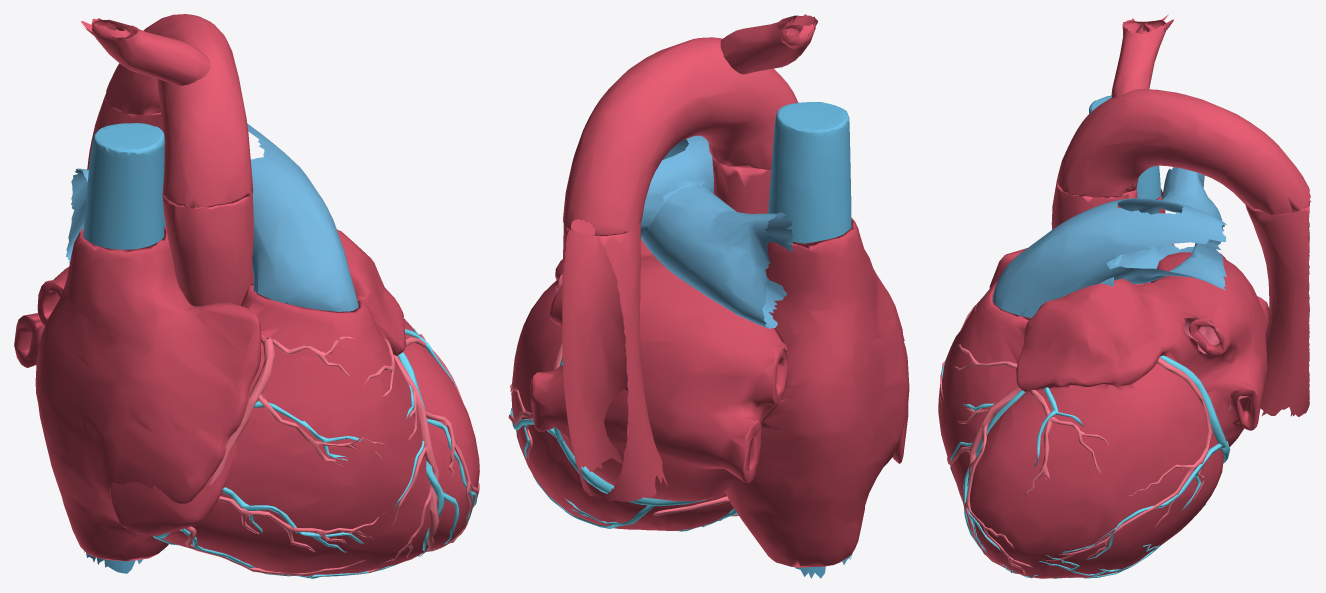
The model's file is anatomical_heart.glb.
3 views of the same model, side by side, from view 1: azimuth 30°, elevation 25°; view 2: azimuth 150°, elevation 25°; view 3: azimuth 270°, elevation 25° (orthographic). The views are drawn at different scales.
Visible parts, largest first — view 1: Myocardium, Aorta, PulmonaryArtery, VenaCava, CoronaryArteries, CardiacVeins; view 2: Myocardium, Aorta, PulmonaryArtery, VenaCava, CardiacVeins, CoronaryArteries; view 3: Myocardium, Aorta, PulmonaryArtery, CoronaryArteries, CardiacVeins, VenaCava, PulmonaryVeins.
Boxes of the visible parts, <box> form: Myocardium: <box>14,226,479,574</box>; Aorta: <box>81,14,253,306</box>; PulmonaryArtery: <box>66,123,358,311</box>; VenaCava: <box>83,123,164,573</box>; CoronaryArteries: <box>185,334,479,576</box>; CardiacVeins: <box>153,328,476,578</box>; Myocardium: <box>511,217,909,567</box>; Aorta: <box>562,14,817,501</box>; PulmonaryArtery: <box>641,135,793,328</box>; VenaCava: <box>768,102,852,578</box>; CardiacVeins: <box>510,356,737,531</box>; CoronaryArteries: <box>508,338,738,516</box>; Myocardium: <box>938,189,1268,578</box>; Aorta: <box>1051,14,1311,416</box>; PulmonaryArtery: <box>992,167,1226,317</box>; CoronaryArteries: <box>940,299,1211,574</box>; CardiacVeins: <box>941,355,1230,578</box>; VenaCava: <box>1089,95,1161,199</box>; PulmonaryVeins: <box>1183,317,1248,410</box>.
Size of the model in its own units: 2.22 by 3.19 by 2.35.
